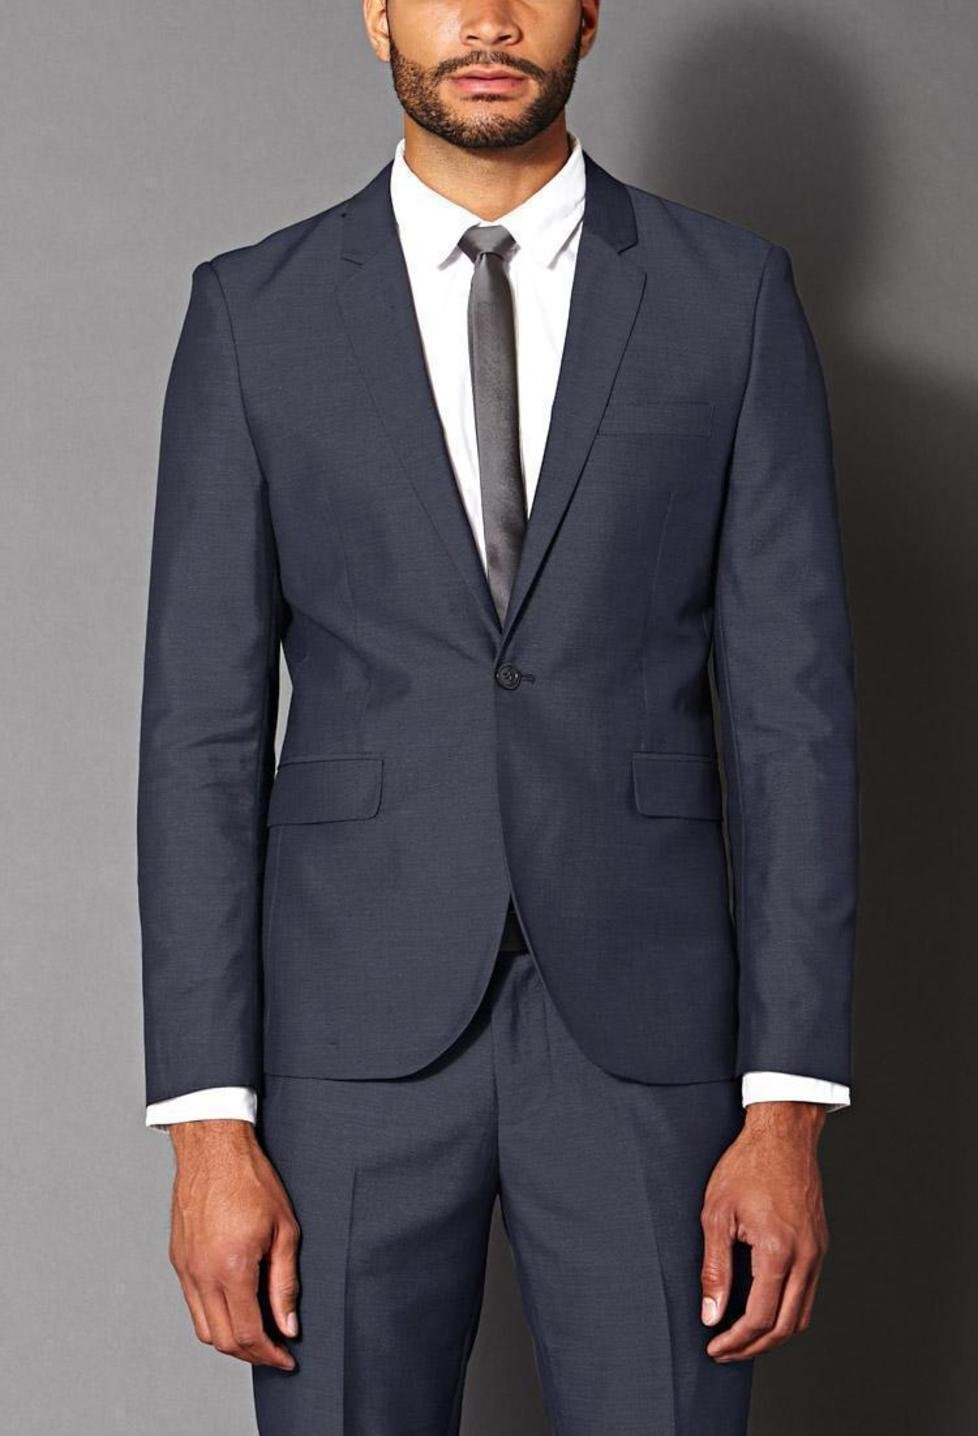F_M_suit jacket: (123, 179, 876, 1098)
F_dress pants: (232, 928, 760, 1419)
F_tie: (443, 222, 545, 607)
